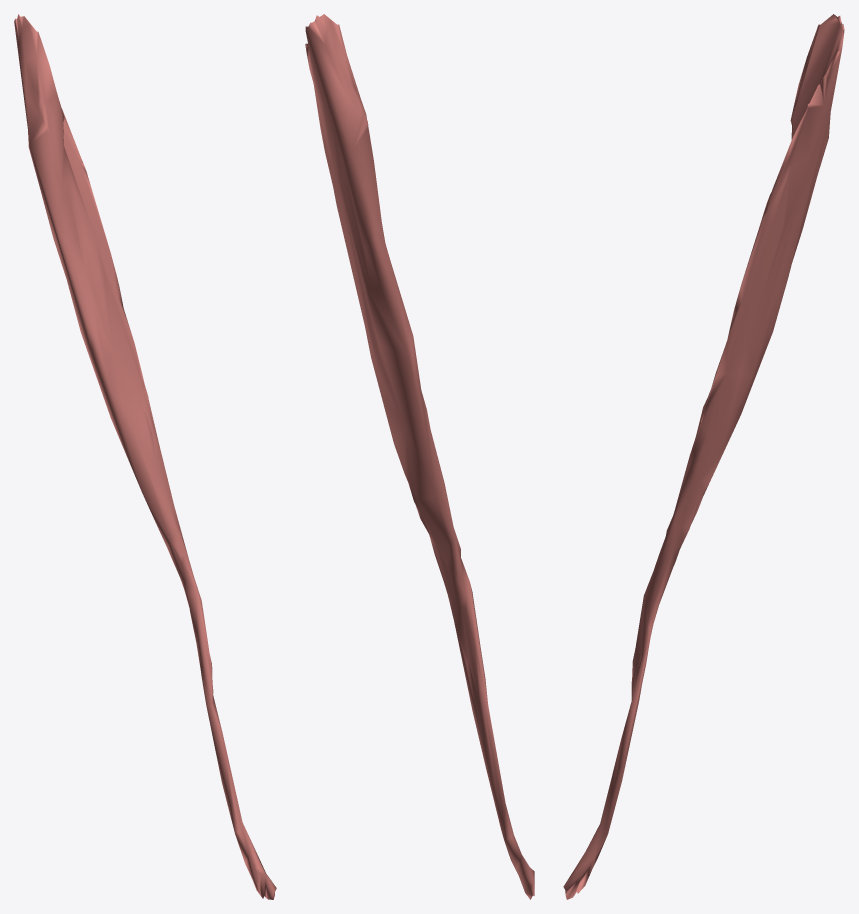
3 renders of one model, left to right at view 1: azimuth 90°, elevation 25°; view 2: azimuth 150°, elevation 25°; view 3: azimuth 270°, elevation 25°, orthographic. The views are drawn at different scales.
Visible parts, largest first — view 1: ZA_40b30c5dac9bbed2; view 2: ZA_40b30c5dac9bbed2; view 3: ZA_40b30c5dac9bbed2.
Part boxes in pixels (x1,y1,x2,y2): ZA_40b30c5dac9bbed2: (14, 14, 276, 899); ZA_40b30c5dac9bbed2: (305, 14, 534, 899); ZA_40b30c5dac9bbed2: (563, 14, 844, 899).
Size of the model in its own units: 0.0231 by 0.2049 by 0.057.
